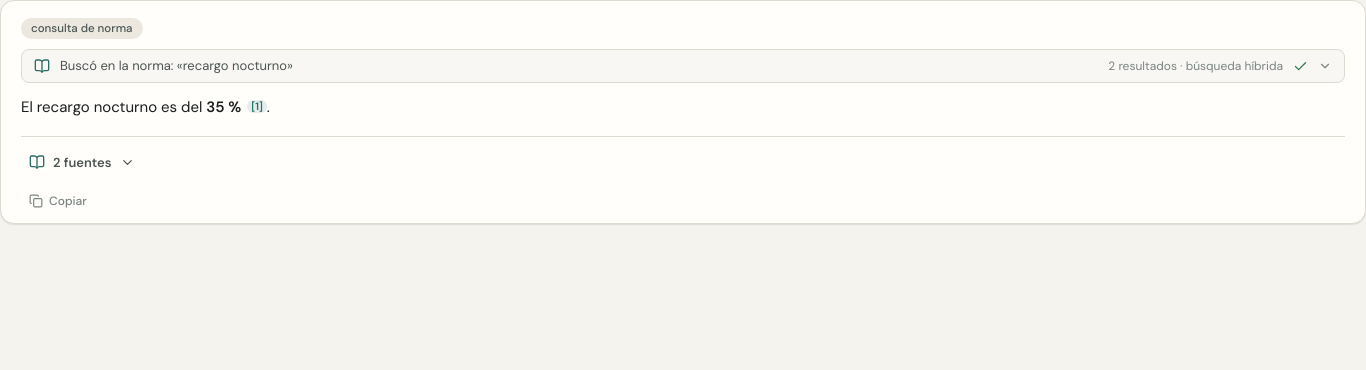
Test: panel de fuentes › el chip [1] abre las fuentes y resalta la fila
The width and height of the screenshot is (1366, 370).
Click the button named "Ver fuente 1" at (257, 106), box [247,100,267,113]
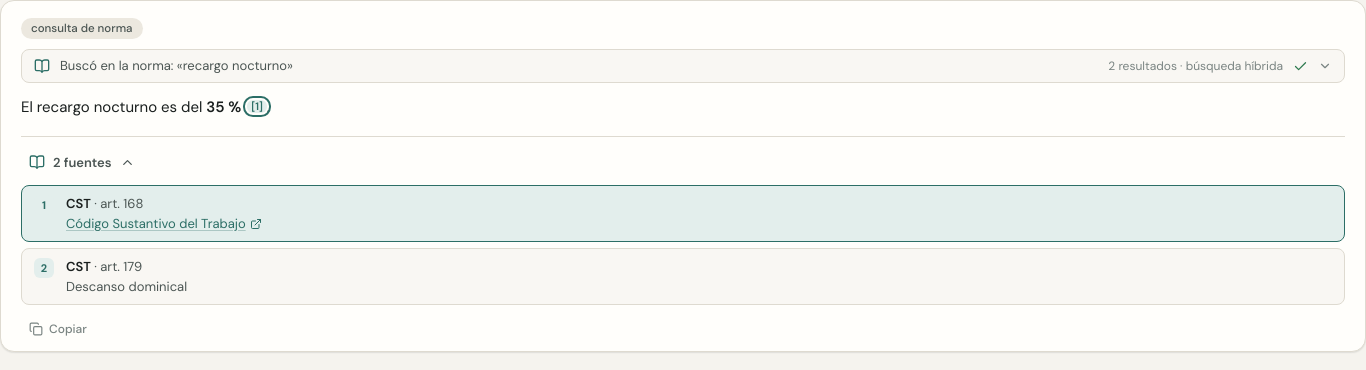
Result: the button "2 fuentes" is expanded at [21,148,143,176]
